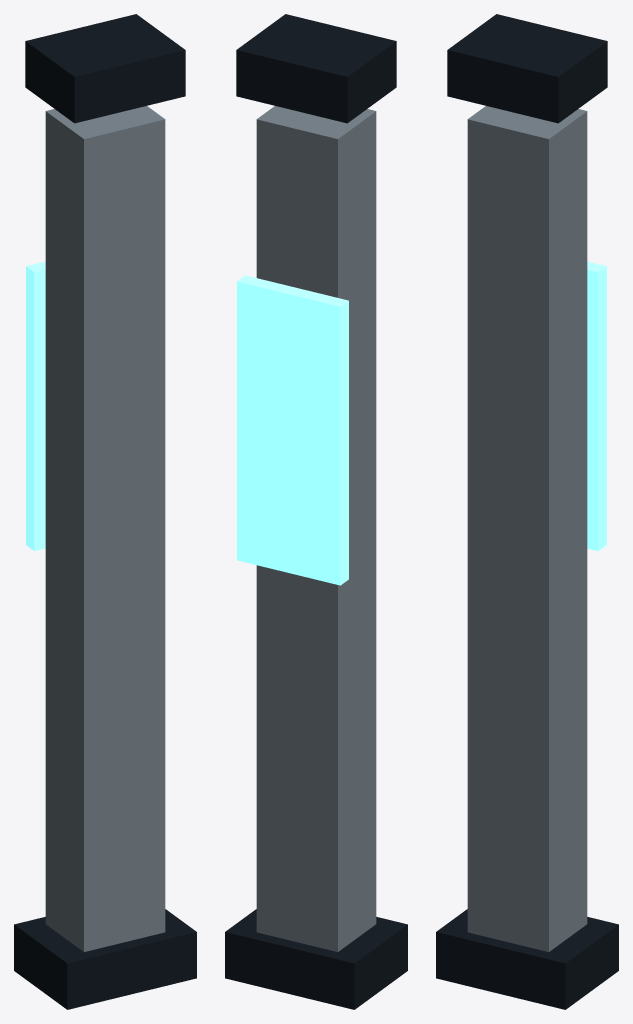
The model's file is np_z03_extraction_balise.glb.
3 renders of one model, left to right at view 1: azimuth 30°, elevation 25°; view 2: azimuth 150°, elevation 25°; view 3: azimuth 330°, elevation 25°, orthographic.
Parts seen in each view (by area): view 1: Montant, Tete, Socle, Panneau; view 2: Montant, Panneau, Tete, Socle; view 3: Montant, Tete, Socle, Panneau.
Part boxes in pixels (bbox=[...]): Montant: bbox=[45, 106, 165, 951]; Tete: bbox=[25, 14, 185, 123]; Socle: bbox=[14, 909, 196, 1009]; Panneau: bbox=[26, 261, 45, 550]; Montant: bbox=[256, 106, 376, 951]; Panneau: bbox=[237, 275, 348, 585]; Tete: bbox=[236, 14, 396, 123]; Socle: bbox=[225, 909, 407, 1009]; Montant: bbox=[467, 106, 587, 951]; Tete: bbox=[447, 14, 607, 123]; Socle: bbox=[436, 909, 618, 1009]; Panneau: bbox=[587, 261, 606, 550].
Bounding box in the file's own units: 0.35 × 2.4 × 0.255.
